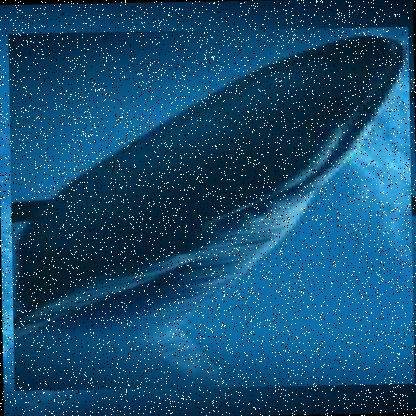blue_whale: (8, 26, 415, 390)
